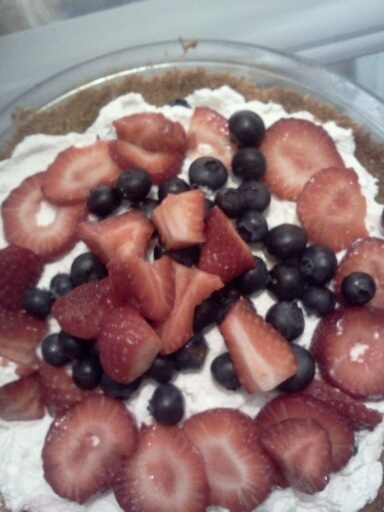background: (0, 66, 230, 409)
